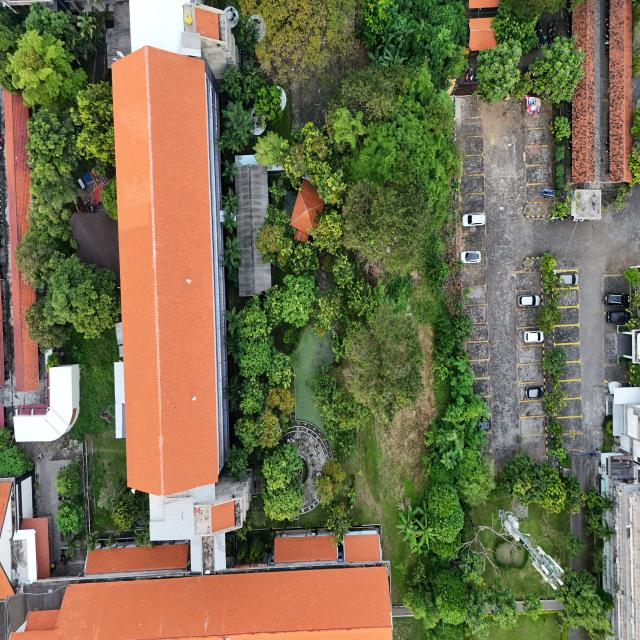Tree: (484, 582, 520, 630), (314, 459, 346, 508), (332, 105, 366, 150), (255, 84, 284, 126), (254, 127, 284, 166), (56, 463, 83, 500), (55, 502, 86, 534), (520, 588, 545, 624), (544, 342, 566, 377), (544, 383, 567, 414), (551, 110, 573, 142), (540, 248, 556, 276)
